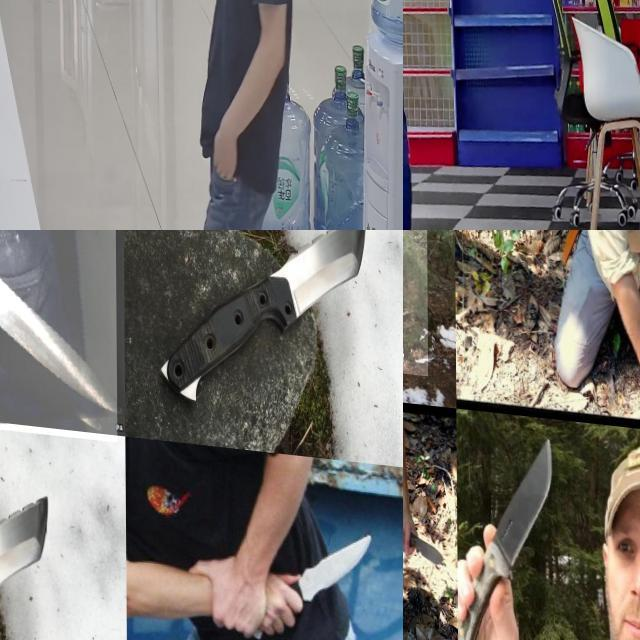-: (0, 230, 117, 435), (454, 422, 559, 640), (265, 504, 372, 634), (255, 230, 370, 332), (403, 230, 481, 369), (0, 471, 57, 624), (403, 511, 443, 563)
gun-knife-thesis - v11 Yolov5 augmented: (127, 0, 167, 63), (403, 0, 455, 40)
